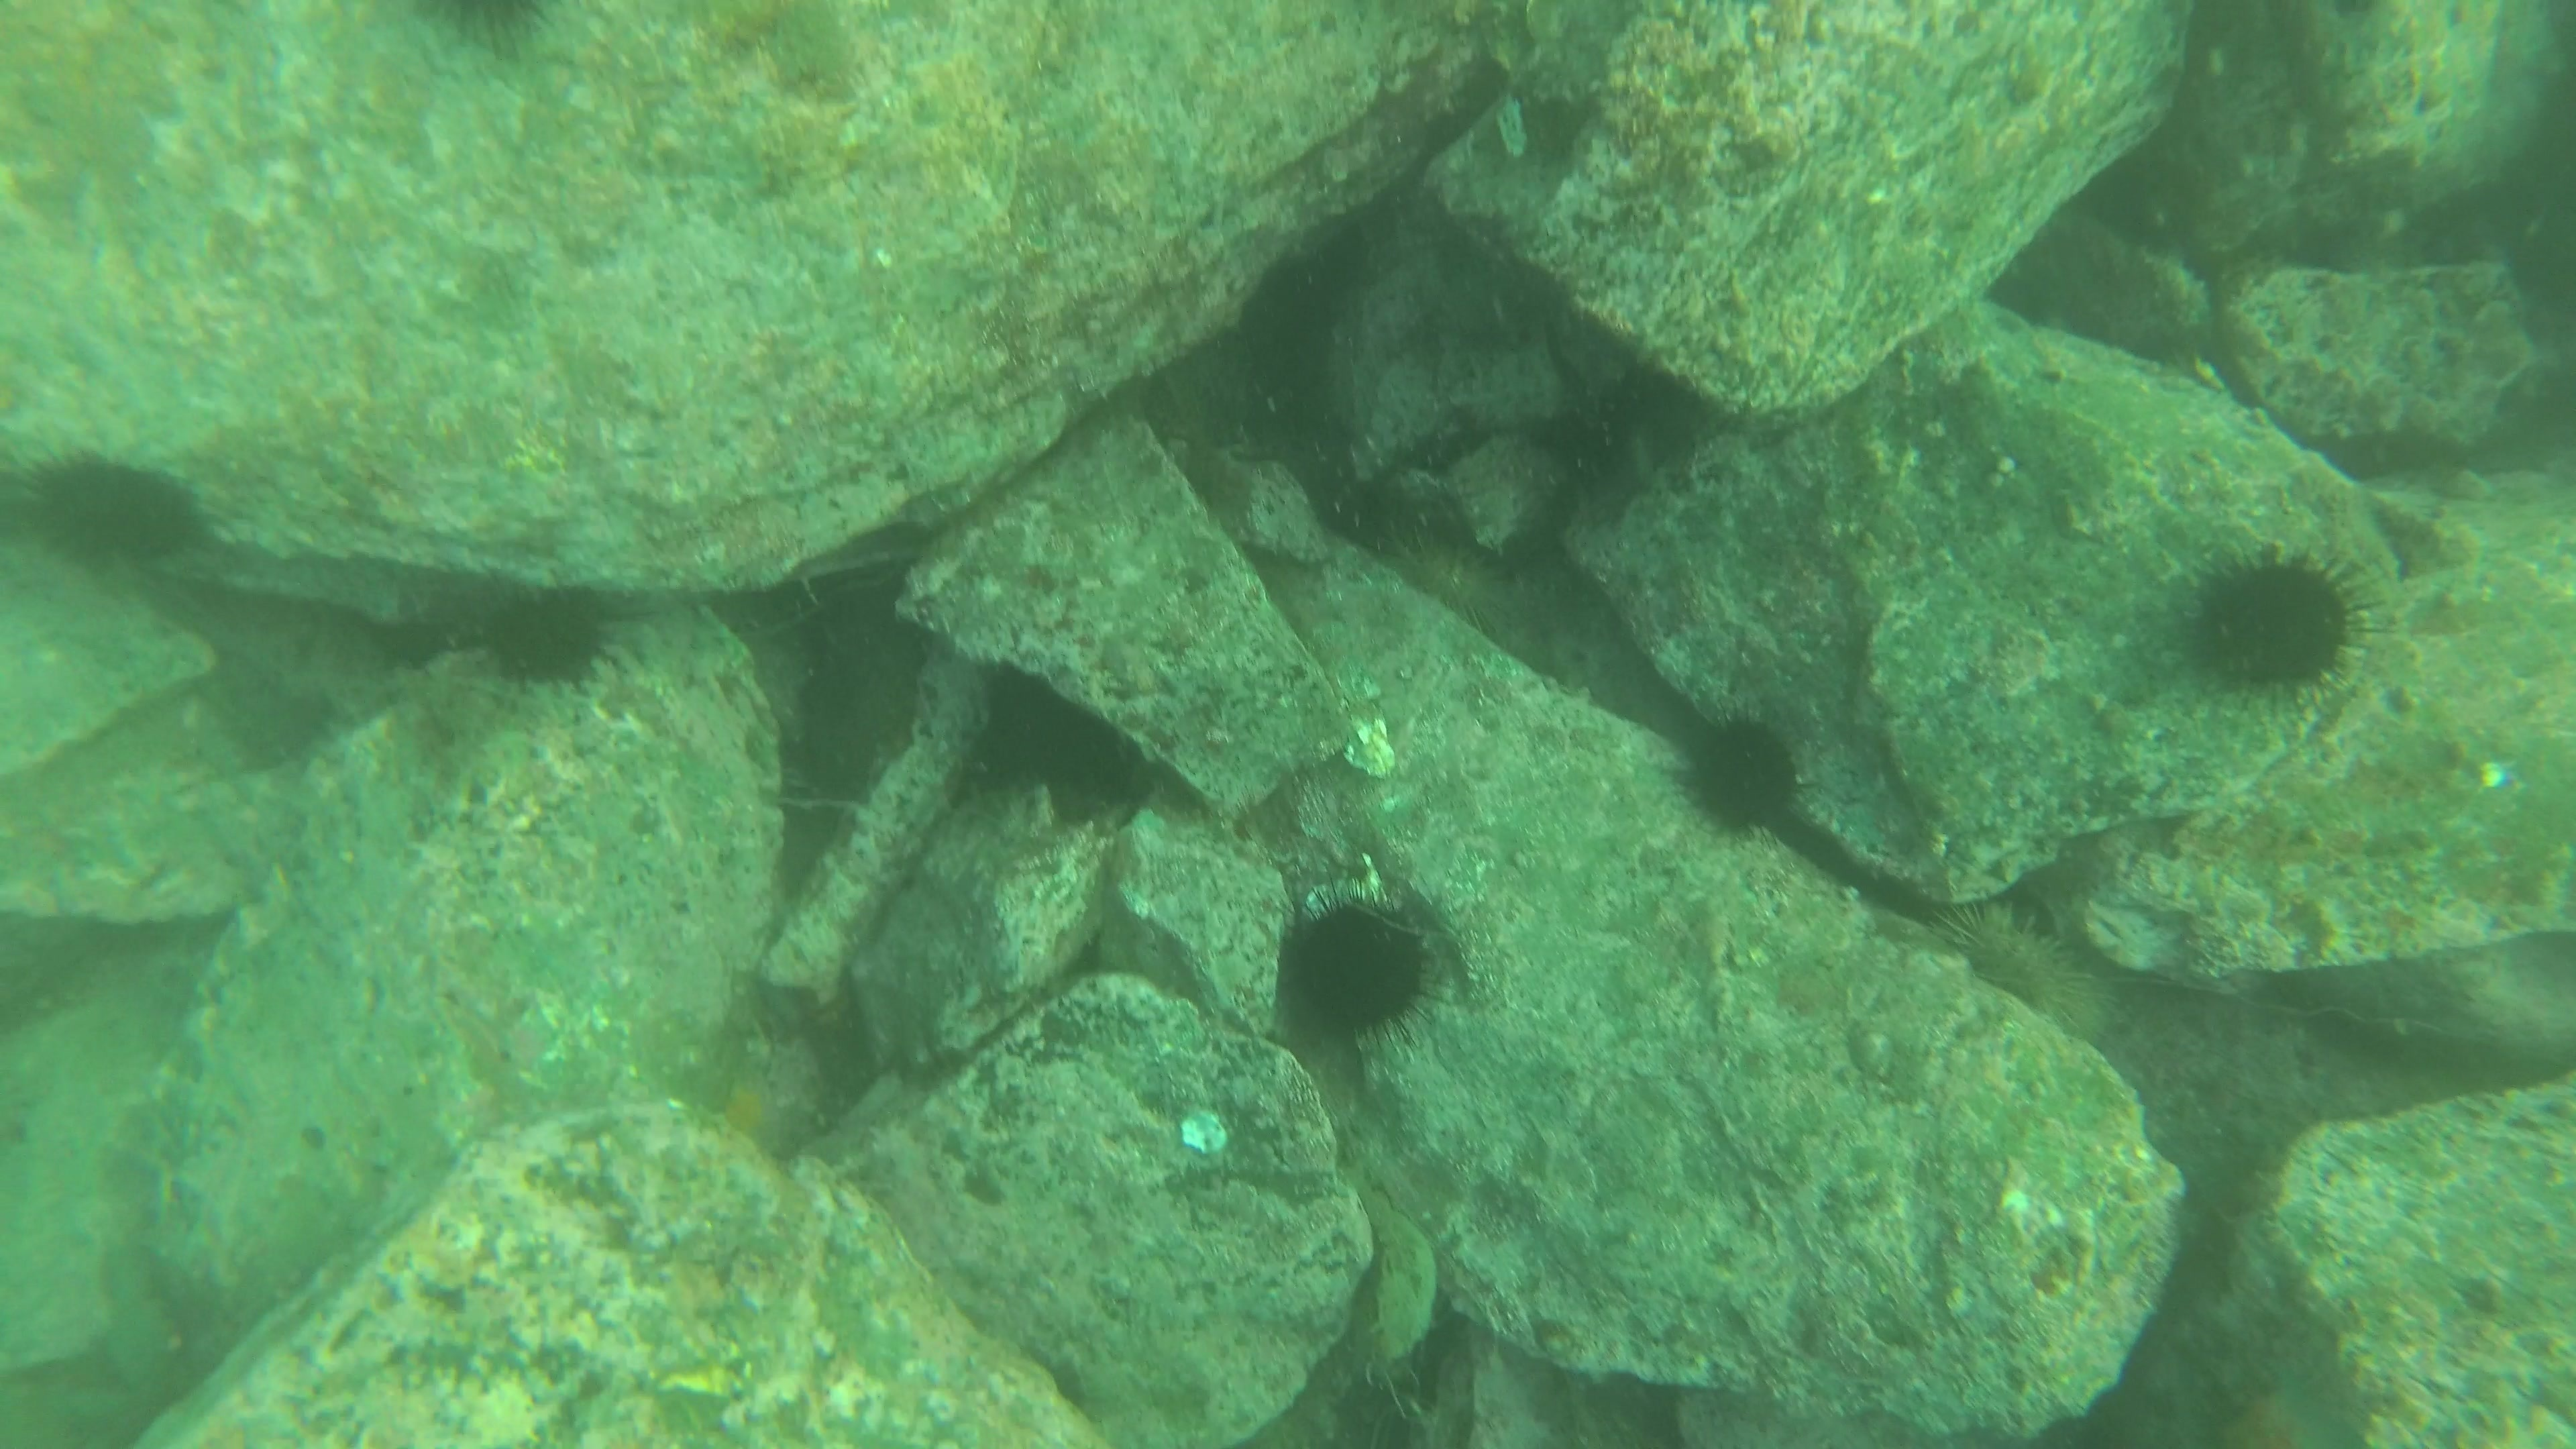echinus: (2171, 540, 2373, 704), (1270, 885, 1444, 1053), (1936, 901, 2120, 1056), (14, 439, 211, 577), (1376, 524, 1539, 669), (1670, 706, 1810, 840), (472, 579, 623, 694), (398, 0, 589, 69)
starfish: (2197, 1353, 2385, 1444), (708, 1065, 803, 1161)
